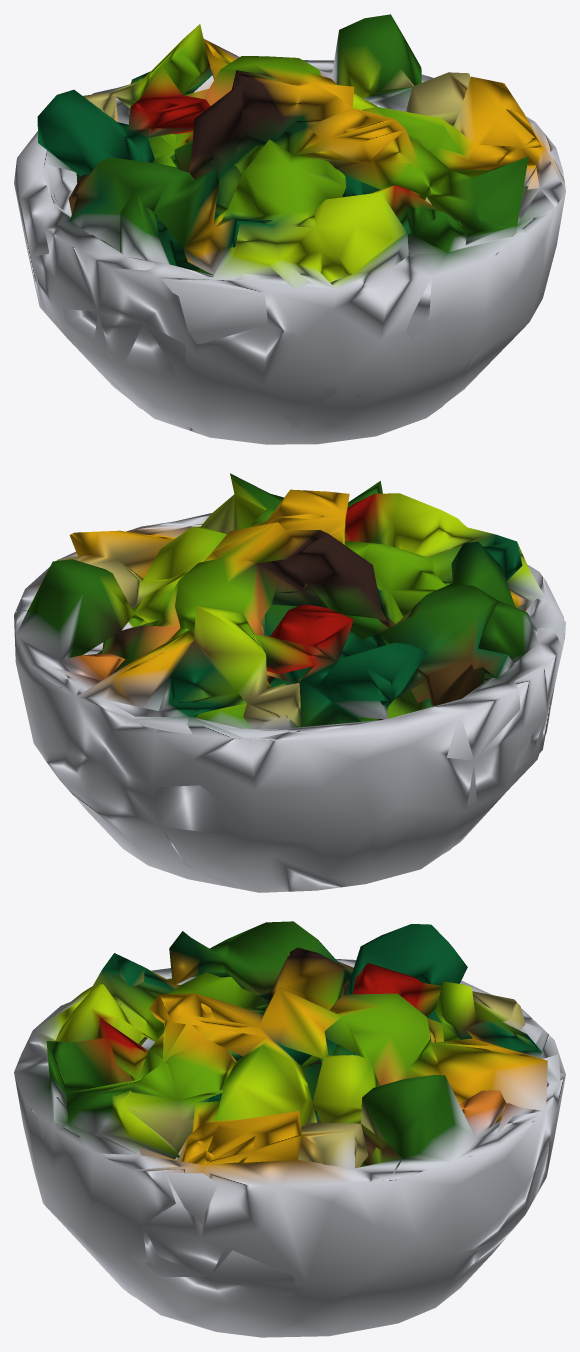
Rendered from gen3d-salad-lod0.glb.
The picture shows the model from 3 angles, top to bottom: view 1: azimuth 30°, elevation 25°; view 2: azimuth 150°, elevation 25°; view 3: azimuth 270°, elevation 25°; orthographic projection.
Parts seen in each view (by area): view 1: part_0; view 2: part_0; view 3: part_0.
Boxes of the visible parts, x1=… form: part_0: x1=14, y1=14, x2=565, y2=444; part_0: x1=14, y1=473, x2=565, y2=892; part_0: x1=14, y1=921, x2=565, y2=1337.
Size of the model in its own units: 1.65 by 1 by 1.67.
